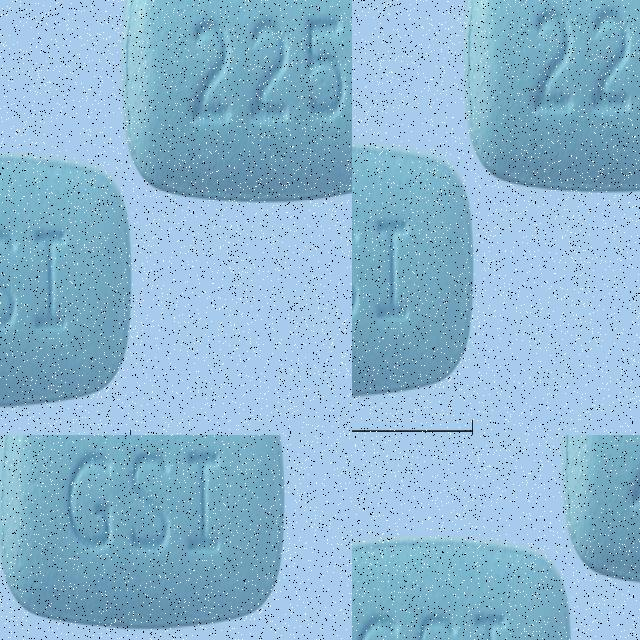A Progen Cefixime Cap: (0, 278, 218, 435)
Amoclan Duo: (12, 447, 352, 640)
Crafroxin Tab: (352, 115, 491, 398), (448, 0, 640, 201)
Descovy: (352, 533, 575, 640), (559, 435, 640, 585)
